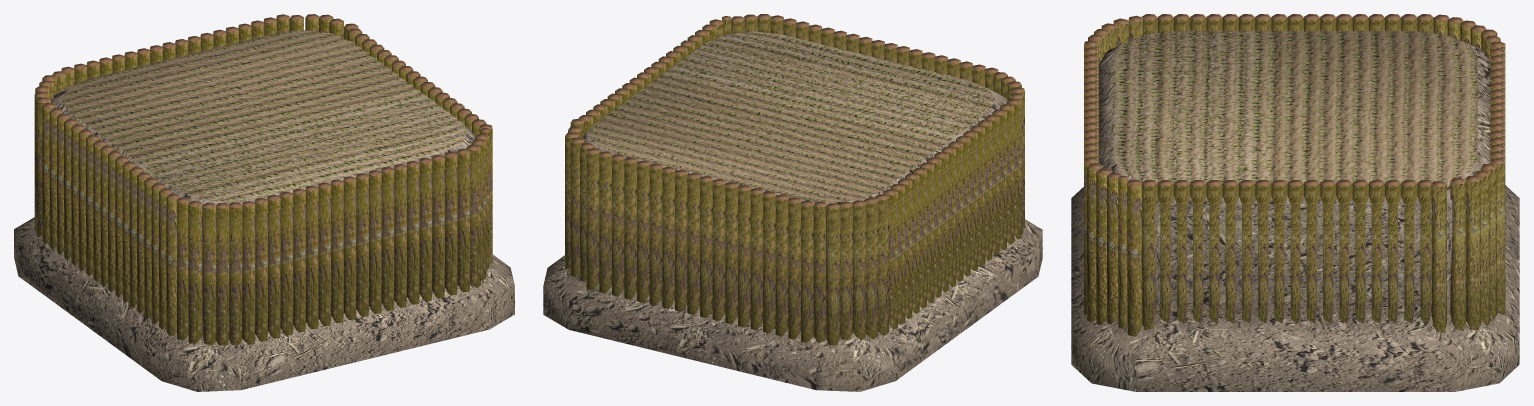
File: chinampa.dae
3 views of the same model, side by side, from view 1: azimuth 30°, elevation 25°; view 2: azimuth 150°, elevation 25°; view 3: azimuth 270°, elevation 25° (orthographic). The views are drawn at different scales.
Visible parts, largest first — view 1: Plane; view 2: Plane; view 3: Plane.
Boxes of the visible parts, x1,y1,x2,y2 form: Plane: [14, 14, 514, 391]; Plane: [543, 14, 1042, 391]; Plane: [1071, 14, 1519, 391].
Size of the model in its own units: 11.51 by 11.51 by 5.59.
